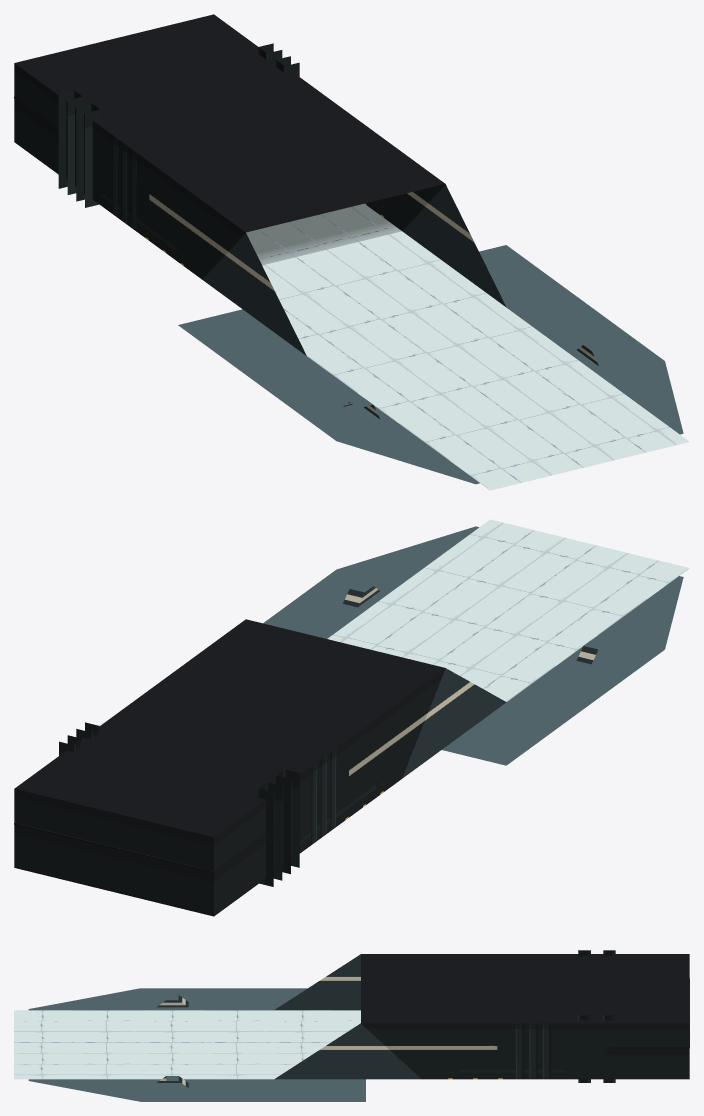
Rendered from hangar.fbx.
3 renders of one model, top to bottom at view 1: azimuth 30°, elevation 25°; view 2: azimuth 150°, elevation 25°; view 3: azimuth 270°, elevation 25°, orthographic. The views are drawn at different scales.
Visible parts, largest first — view 1: hangar; view 2: hangar; view 3: hangar.
Boxes of the visible parts, x1,y1,x2,y2 form: hangar: (14,14,689,490); hangar: (14,519,689,916); hangar: (14,950,689,1101).
Bounding box in the file's own units: 43.45 × 12.23 × 109.
Materials: 1 (1 with a texture image).
